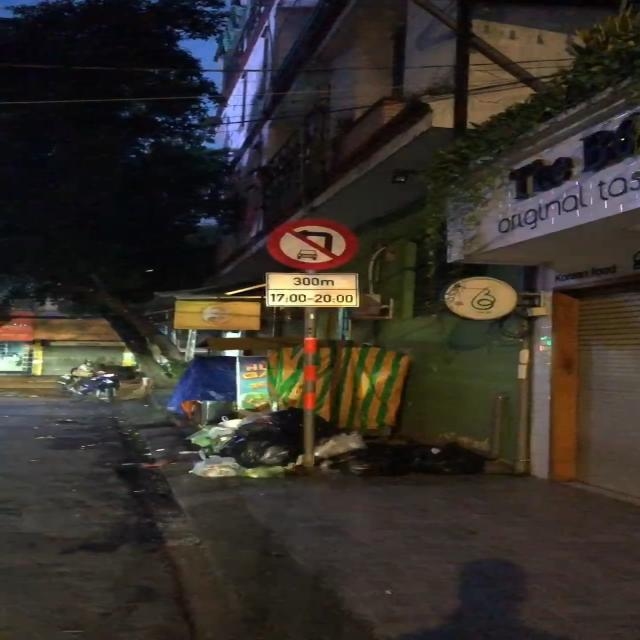Bien bao cam xe o to re trai: (264, 217, 358, 270)
